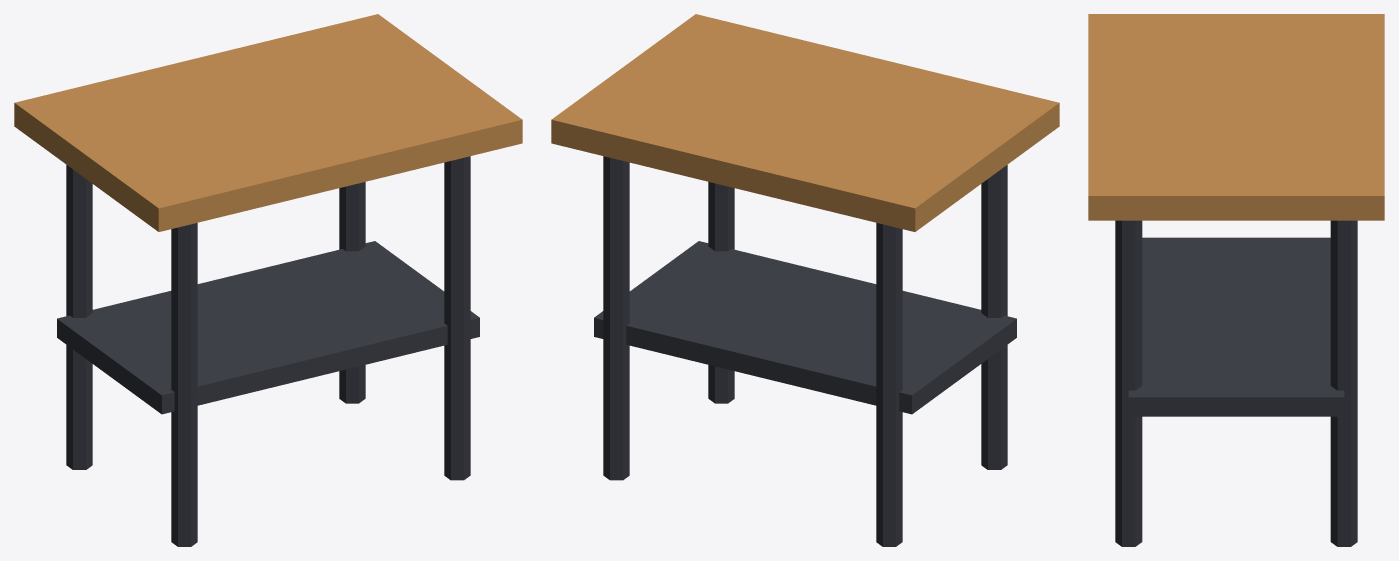
File: student_desk.glb
3 views of the same model, side by side, from view 1: azimuth 30°, elevation 25°; view 2: azimuth 150°, elevation 25°; view 3: azimuth 270°, elevation 25° (orthographic). The views are drawn at different scales.
Parts seen in each view (by area): view 1: student_desk; view 2: student_desk; view 3: student_desk.
Boxes of the visible parts, left/top/right/bottom form: student_desk: left=14, top=14, right=522, bottom=546; student_desk: left=551, top=14, right=1059, bottom=546; student_desk: left=1088, top=14, right=1384, bottom=546.
Bounding box in the file's own units: 0.8 × 0.755 × 0.55.
